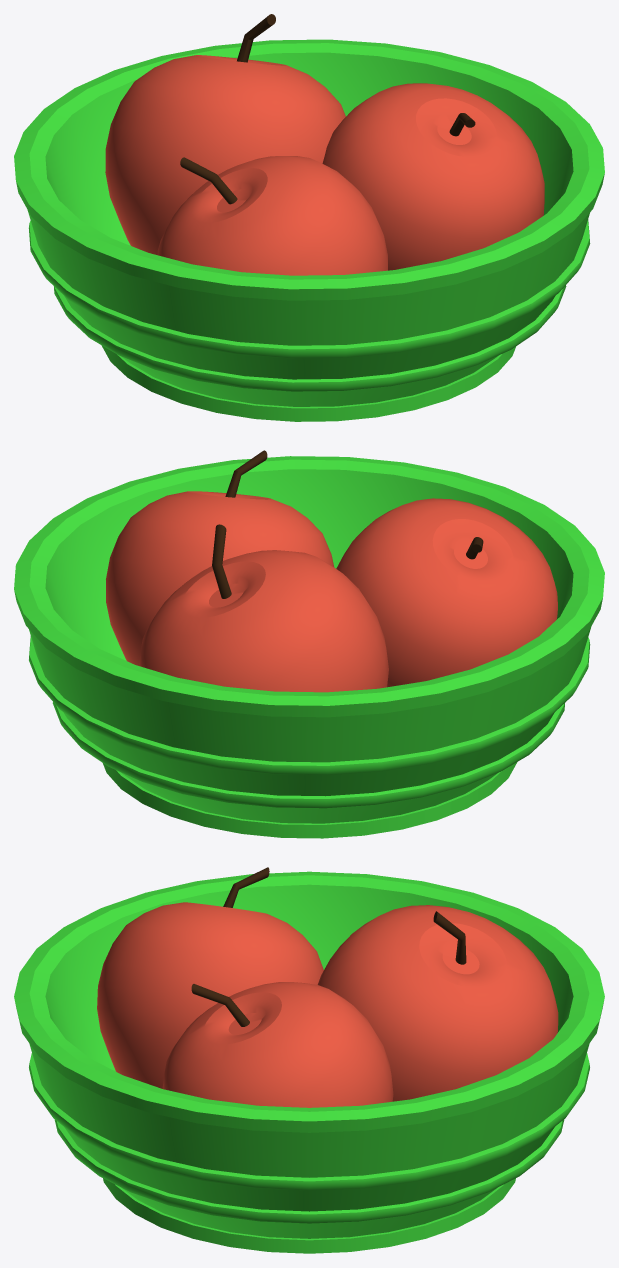
The model's file is Canasta.fbx.
3 renders of one model, top to bottom at view 1: azimuth 30°, elevation 25°; view 2: azimuth 150°, elevation 25°; view 3: azimuth 270°, elevation 25°, orthographic.
Parts seen in each view (by area): view 1: Cylinder.003; view 2: Cylinder.003; view 3: Cylinder.003.
Boxes of the visible parts, x1,y1,x2,y2 form: Cylinder.003: (14,14,604,421); Cylinder.003: (14,450,604,838); Cylinder.003: (14,867,604,1253).
Size of the model in its own units: 211 by 105 by 211.
